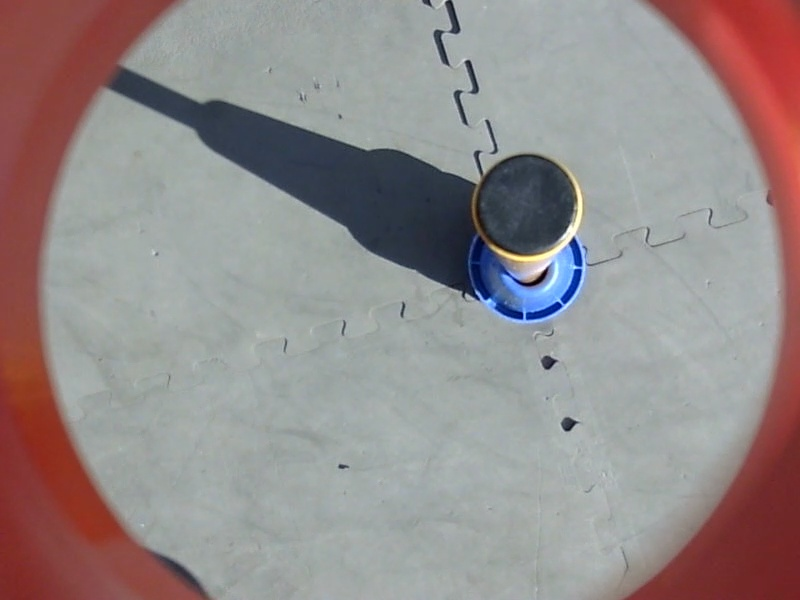tip: (464, 148, 588, 266)
